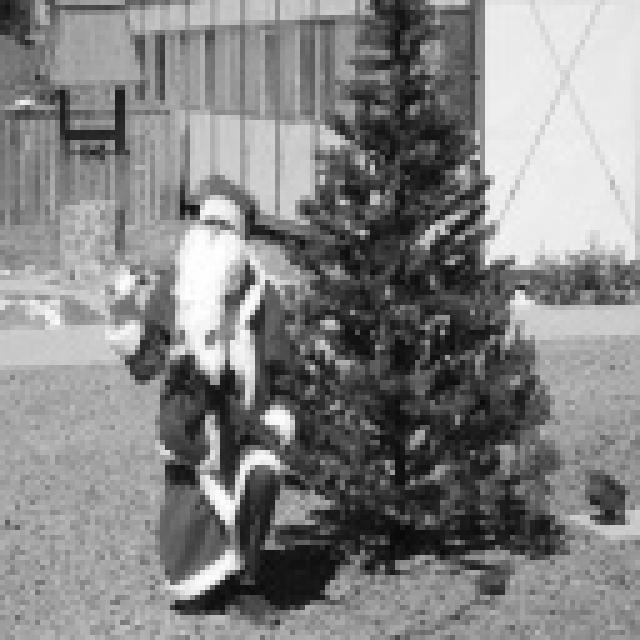Rifle: (127, 317, 368, 531)
